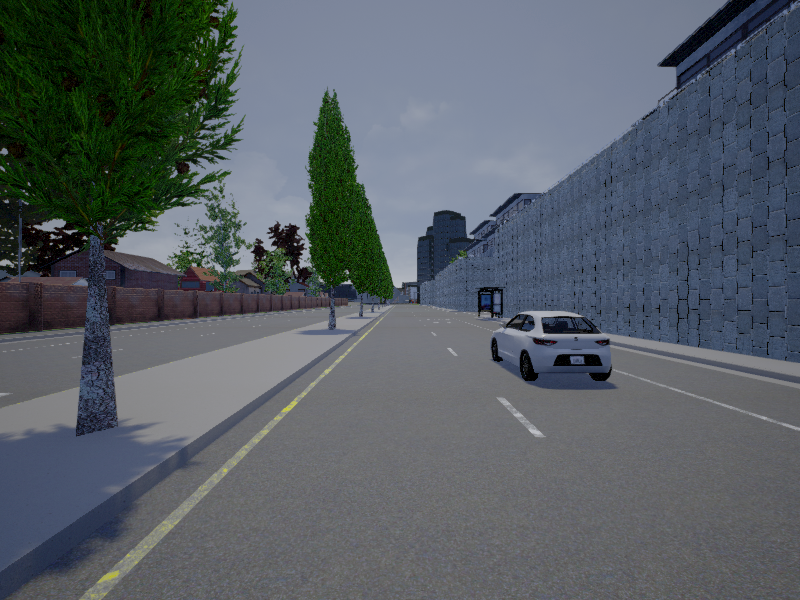Benign: (491, 313, 612, 385)
